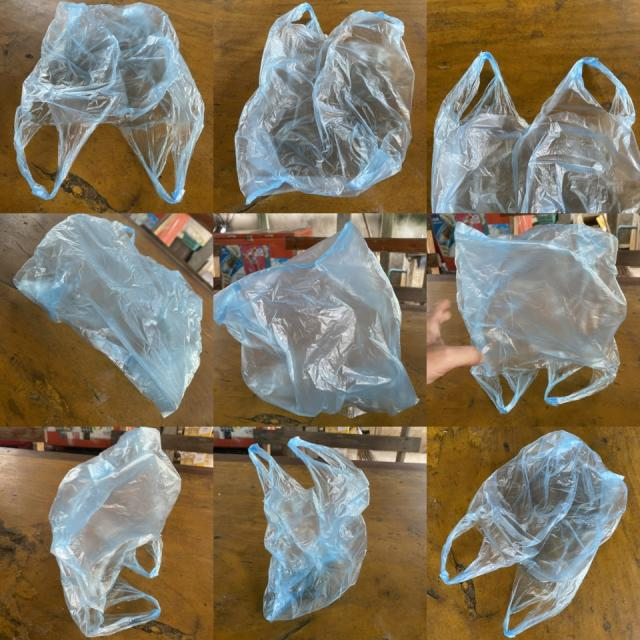Single-layer Plastic: (214, 222, 418, 417), (440, 431, 628, 638), (14, 2, 204, 203), (14, 214, 201, 416), (235, 4, 414, 203), (431, 51, 640, 212), (455, 222, 626, 414), (49, 428, 180, 637), (249, 438, 369, 621)
